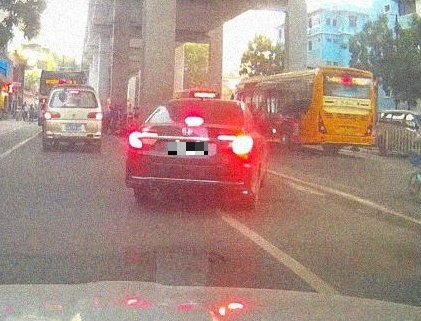L_light: (128, 131, 158, 149), (318, 112, 327, 134), (44, 111, 61, 119)
R_light: (217, 135, 253, 155), (362, 116, 374, 137), (87, 112, 102, 119)
T_light: (184, 117, 204, 125), (343, 93, 357, 98), (68, 90, 78, 93)
day-brake: (43, 84, 103, 148)
day-no: (316, 65, 375, 154)
day-right: (126, 97, 255, 210)
plate_1: (168, 142, 208, 155)
